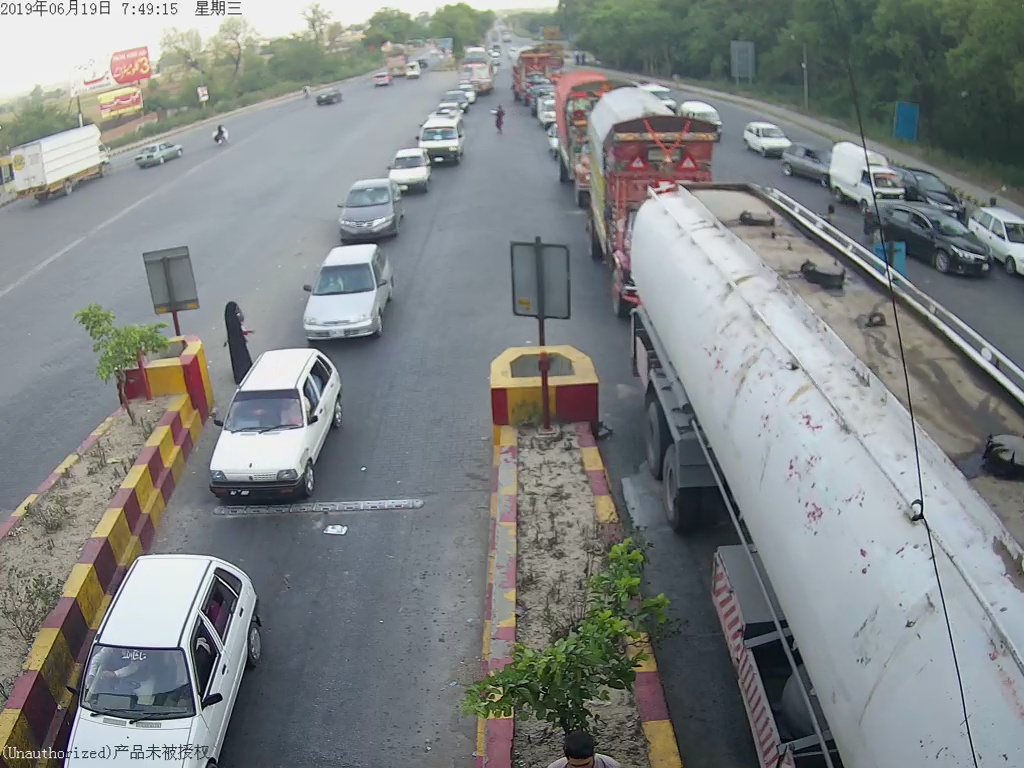Cat-1: (208, 345, 340, 501), (291, 241, 395, 339), (332, 179, 401, 244), (386, 143, 428, 189)
Cat-4: (589, 90, 714, 310), (548, 67, 621, 217)
